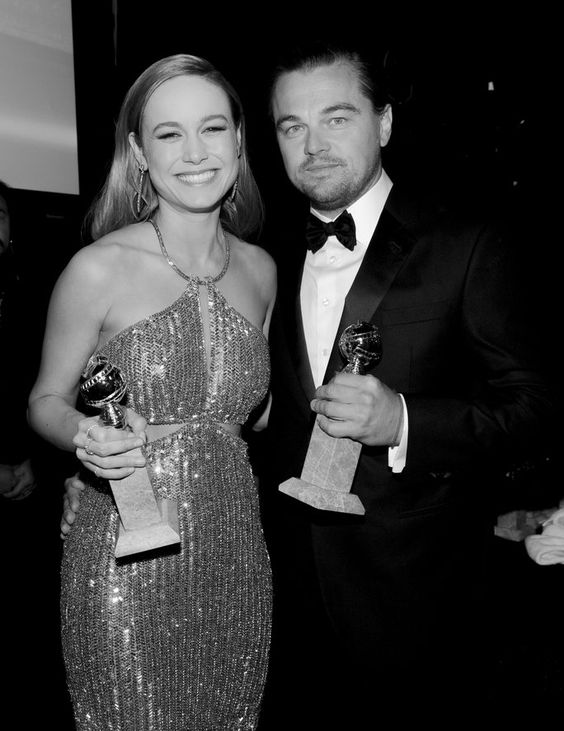hand: (77, 410, 140, 475)
